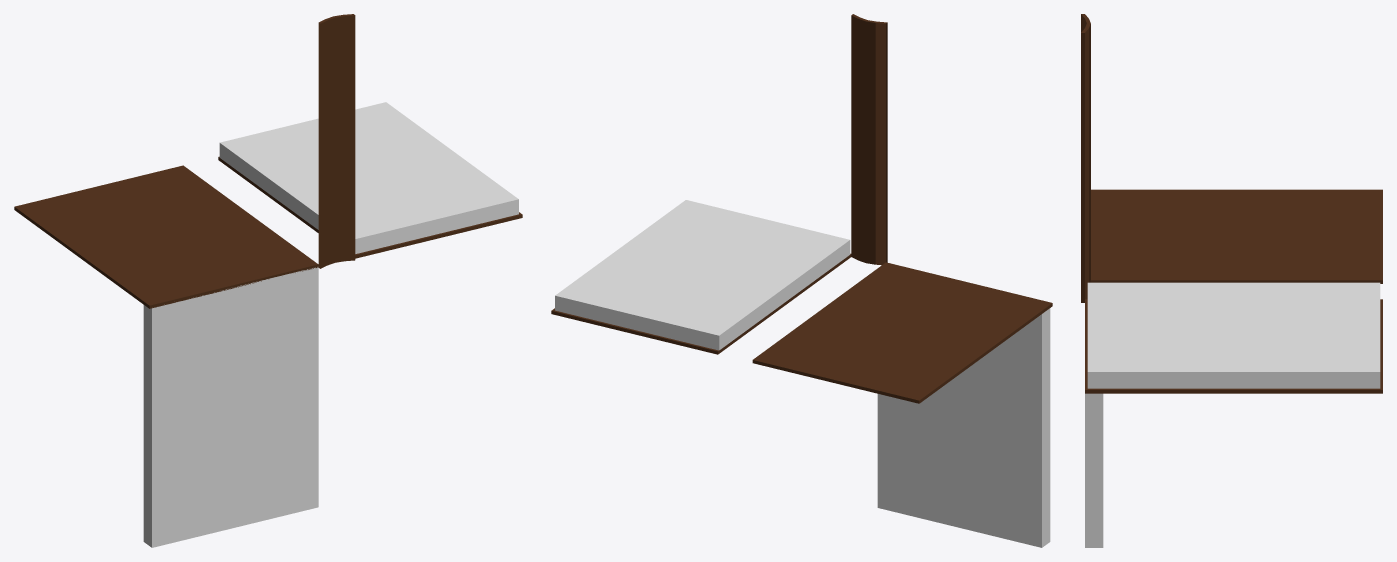
File: game-entry.fbx
3 renders of one model, left to right at view 1: azimuth 30°, elevation 25°; view 2: azimuth 150°, elevation 25°; view 3: azimuth 270°, elevation 25°, orthographic. The views are drawn at different scales.
Visible parts, largest first — view 1: Front Page Block, Front Cover, Back Page Block, Spine, Back Cover; view 2: Front Page Block, Back Page Block, Front Cover, Spine, Back Cover; view 3: Back Page Block, Front Cover, Front Page Block, Spine, Back Cover.
Part boxes in pixels (bbox=[...]): Front Page Block: bbox=[143, 267, 318, 547]; Front Cover: bbox=[14, 165, 318, 308]; Back Page Block: bbox=[219, 102, 518, 253]; Spine: bbox=[318, 14, 355, 268]; Back Cover: bbox=[218, 156, 522, 258]; Front Page Block: bbox=[877, 308, 1050, 547]; Back Page Block: bbox=[555, 200, 850, 350]; Front Cover: bbox=[752, 262, 1052, 403]; Spine: bbox=[851, 14, 887, 265]; Back Cover: bbox=[551, 253, 851, 354]; Back Page Block: bbox=[1087, 282, 1380, 388]; Front Cover: bbox=[1091, 189, 1382, 283]; Front Page Block: bbox=[1085, 393, 1103, 547]; Spine: bbox=[1081, 14, 1090, 302]; Back Cover: bbox=[1085, 299, 1382, 393].
Bounding box in the file's own units: 442 × 548 × 281.
